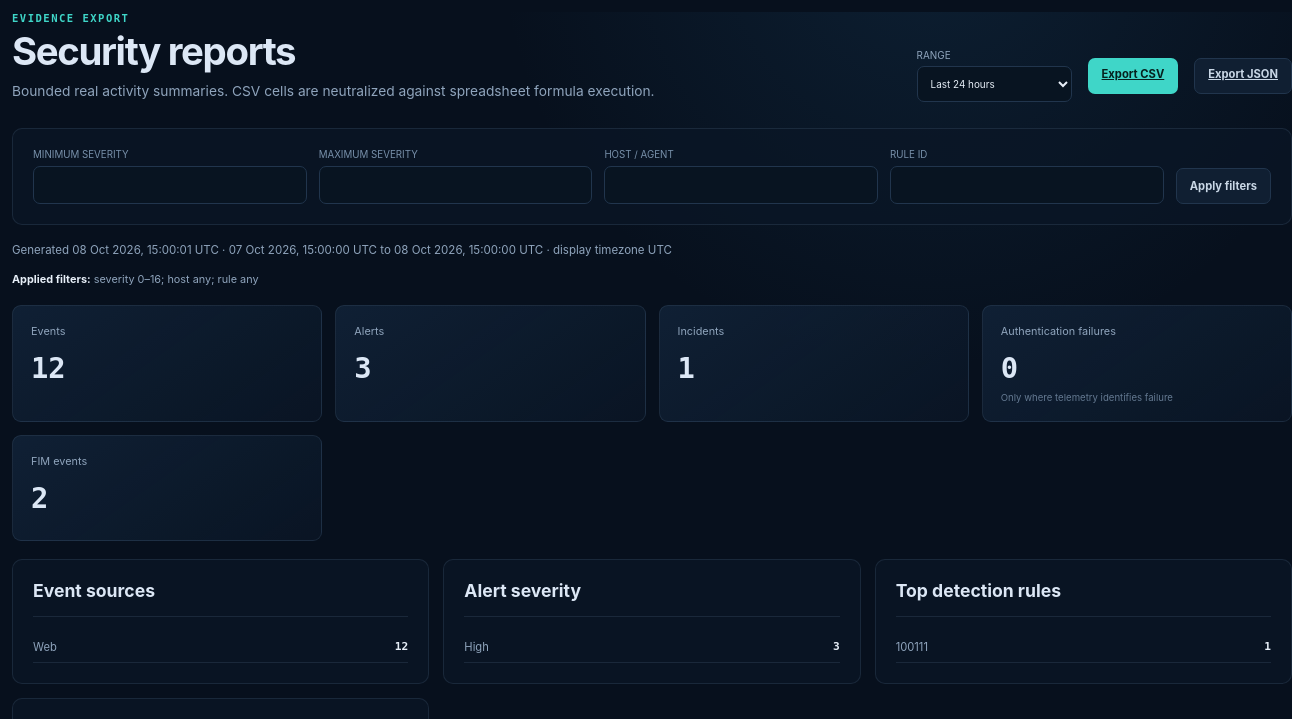
Test: SIEM experience pages › downloads JSON through the authenticated API and reports export errors
The image size is (1292, 719).
Expected: the text "Applied filters:" is shown, [12, 272, 91, 286]
Click the link "Export JSON" at x=1243, y=76, box [1194, 58, 1291, 94]
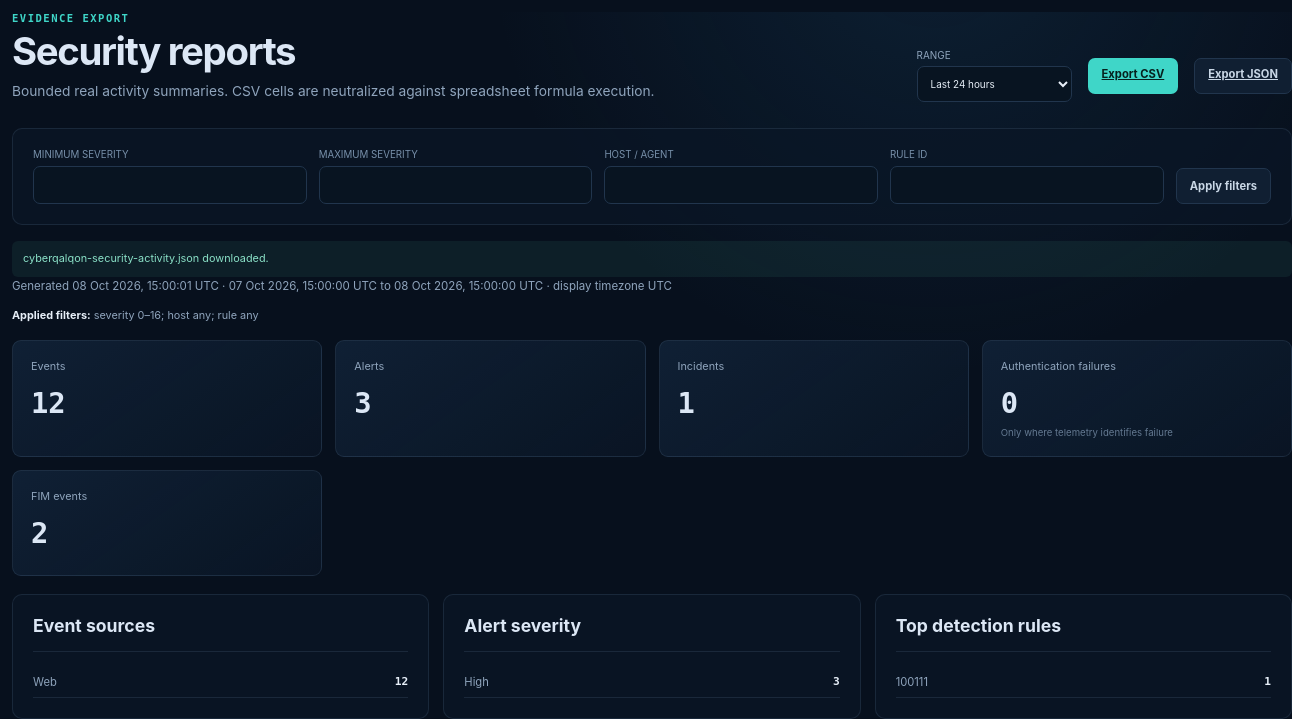
Expected: the text "cyberqalqon-security-activity.json downloaded." is shown, [12, 242, 1291, 277]
Click the link "Export CSV" at x=1133, y=76, box [1088, 58, 1178, 94]
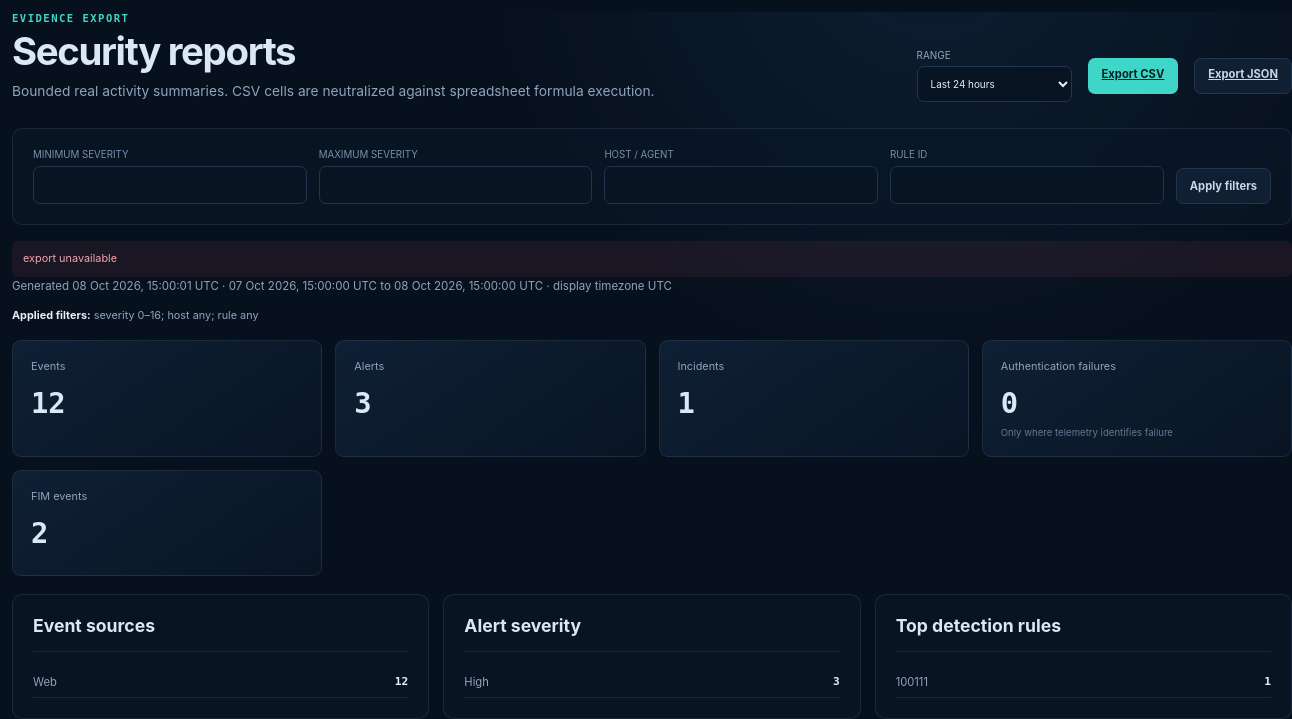
Expected: the text "export unavailable" is shown, [12, 242, 1291, 277]
